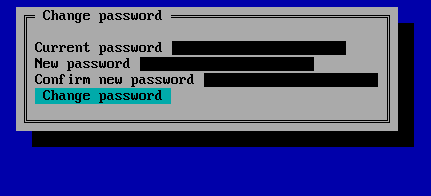
a 400 shows the server message and stays
Type "wrong" into the password field named "current". click: point(259, 48)
box: [171, 40, 347, 56]
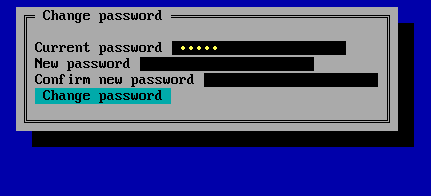
Type "new password!!" into the password field named "new". click: point(227, 64)
box: [139, 56, 315, 72]
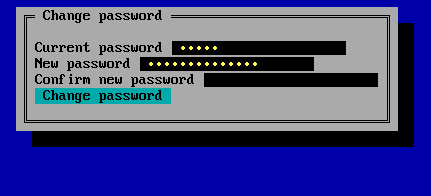
Type "new password!!" into the password field named "confirm". click: point(291, 80)
box: [203, 72, 379, 88]
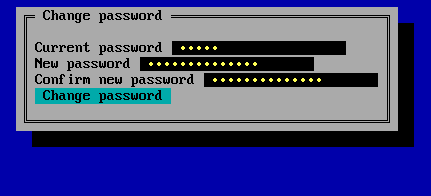
Submit the form, box [24, 8, 390, 123]
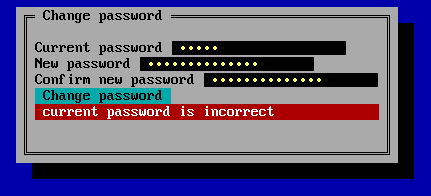
Expected: the message "current password is incorrect" is shown, [35, 104, 379, 120]
